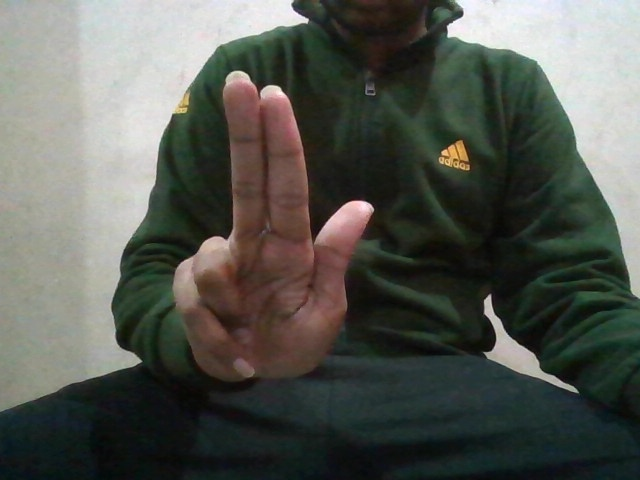K: (171, 68, 381, 383)
